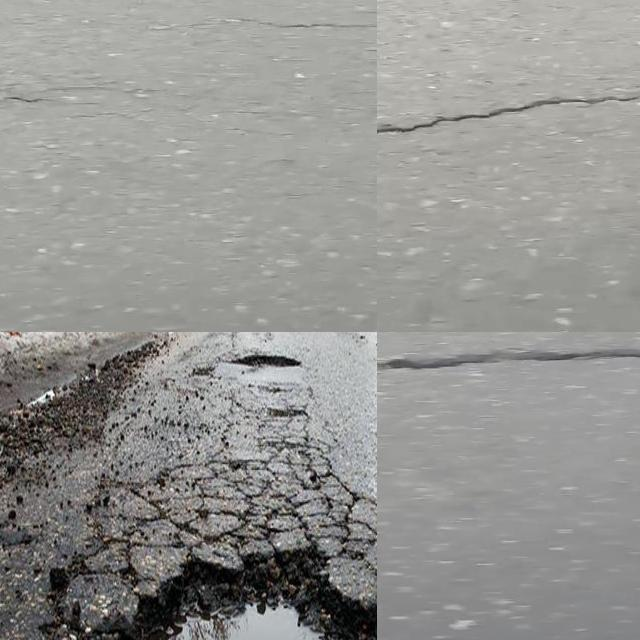Lubang: (140, 543, 377, 640)
Melintang: (377, 76, 640, 147), (377, 337, 640, 384)
Retak Buaya: (106, 395, 377, 601)
